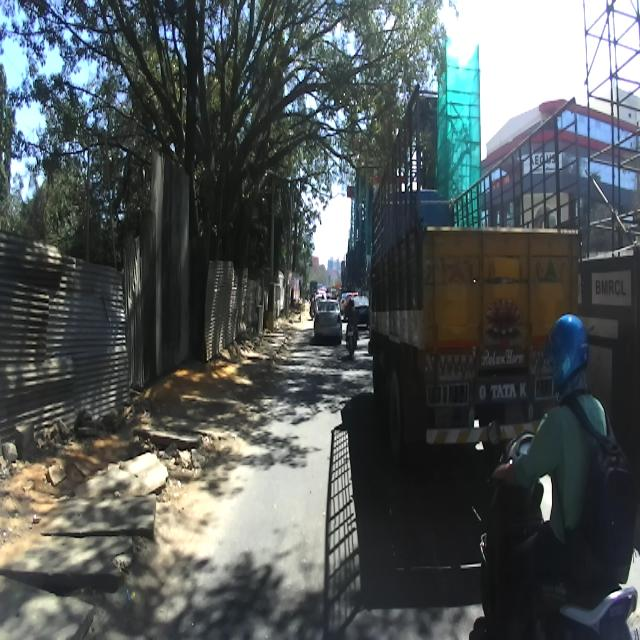truck ahead at: (370, 81, 604, 467)
